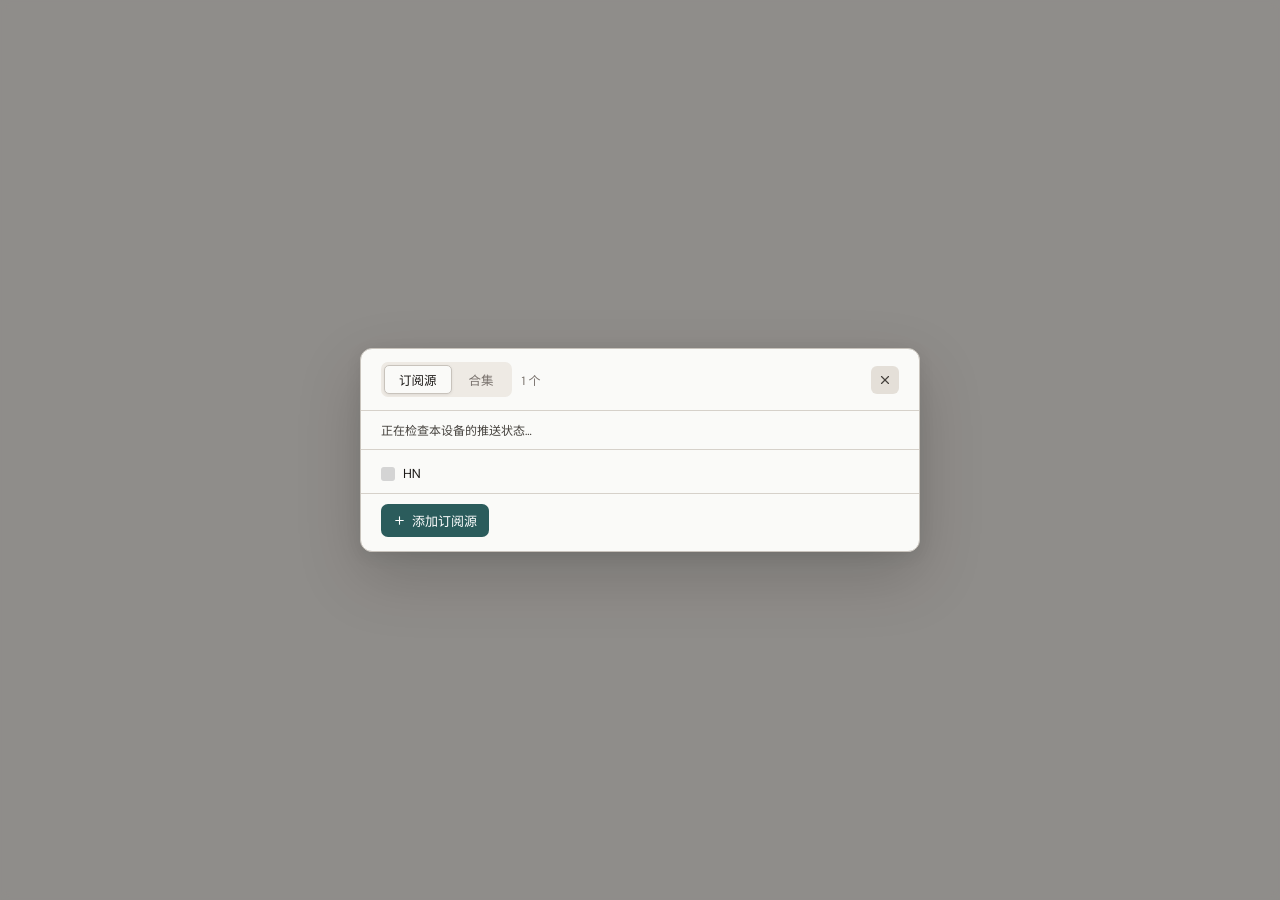
Scenario: ManageModal tabs › opens on the feeds tab and switches to collections
Check: the text "HN" is shown, box x1=403 y1=465 x2=421 y2=482
Step 1. Click the button "合集" → (481, 380), box x1=454 y1=365 x2=508 y2=394
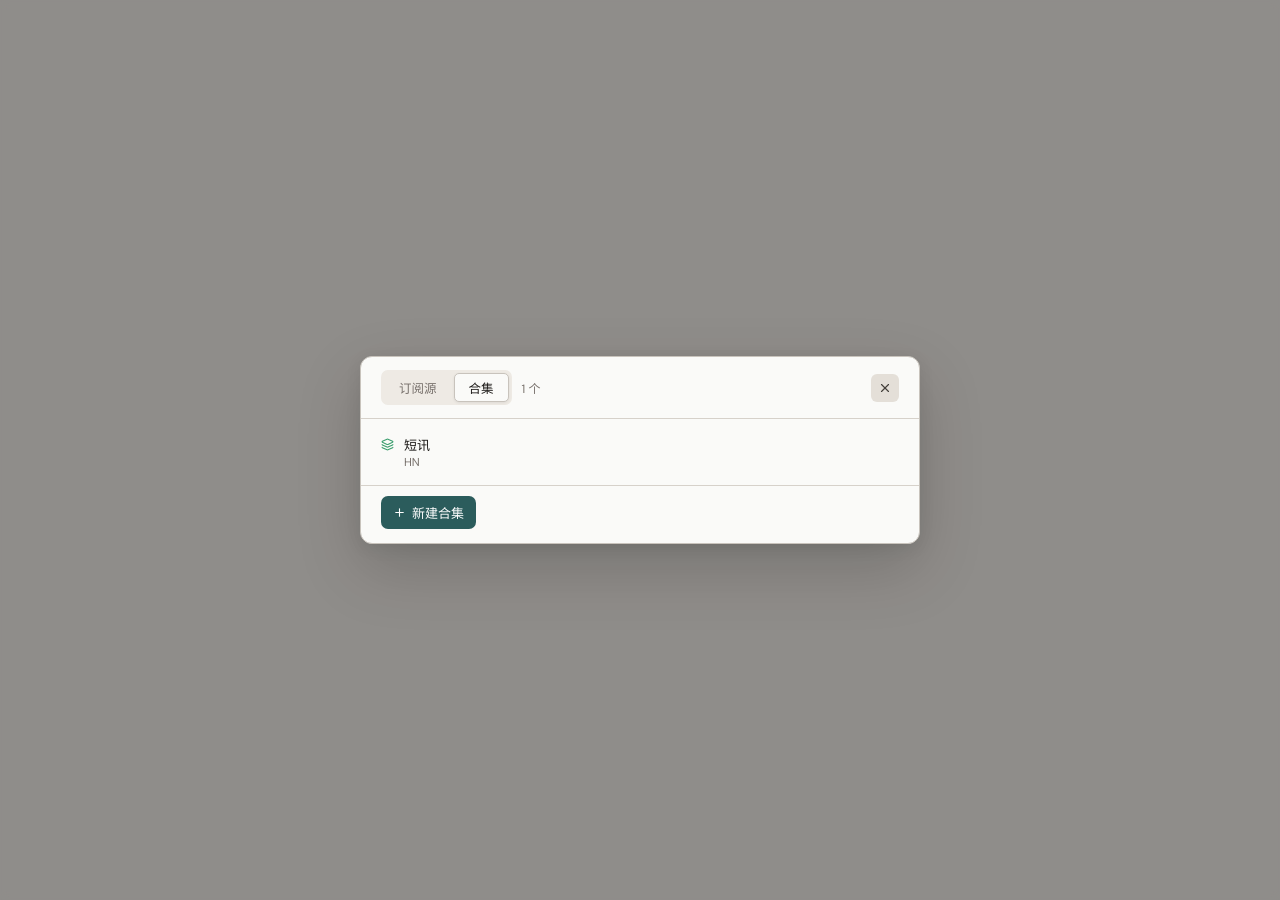
Check: the text "短讯" is shown, box x1=404 y1=437 x2=430 y2=454
Check: the button "新建合集" is shown, box x1=381 y1=496 x2=476 y2=529
Check: the button "添加订阅源" is gone
